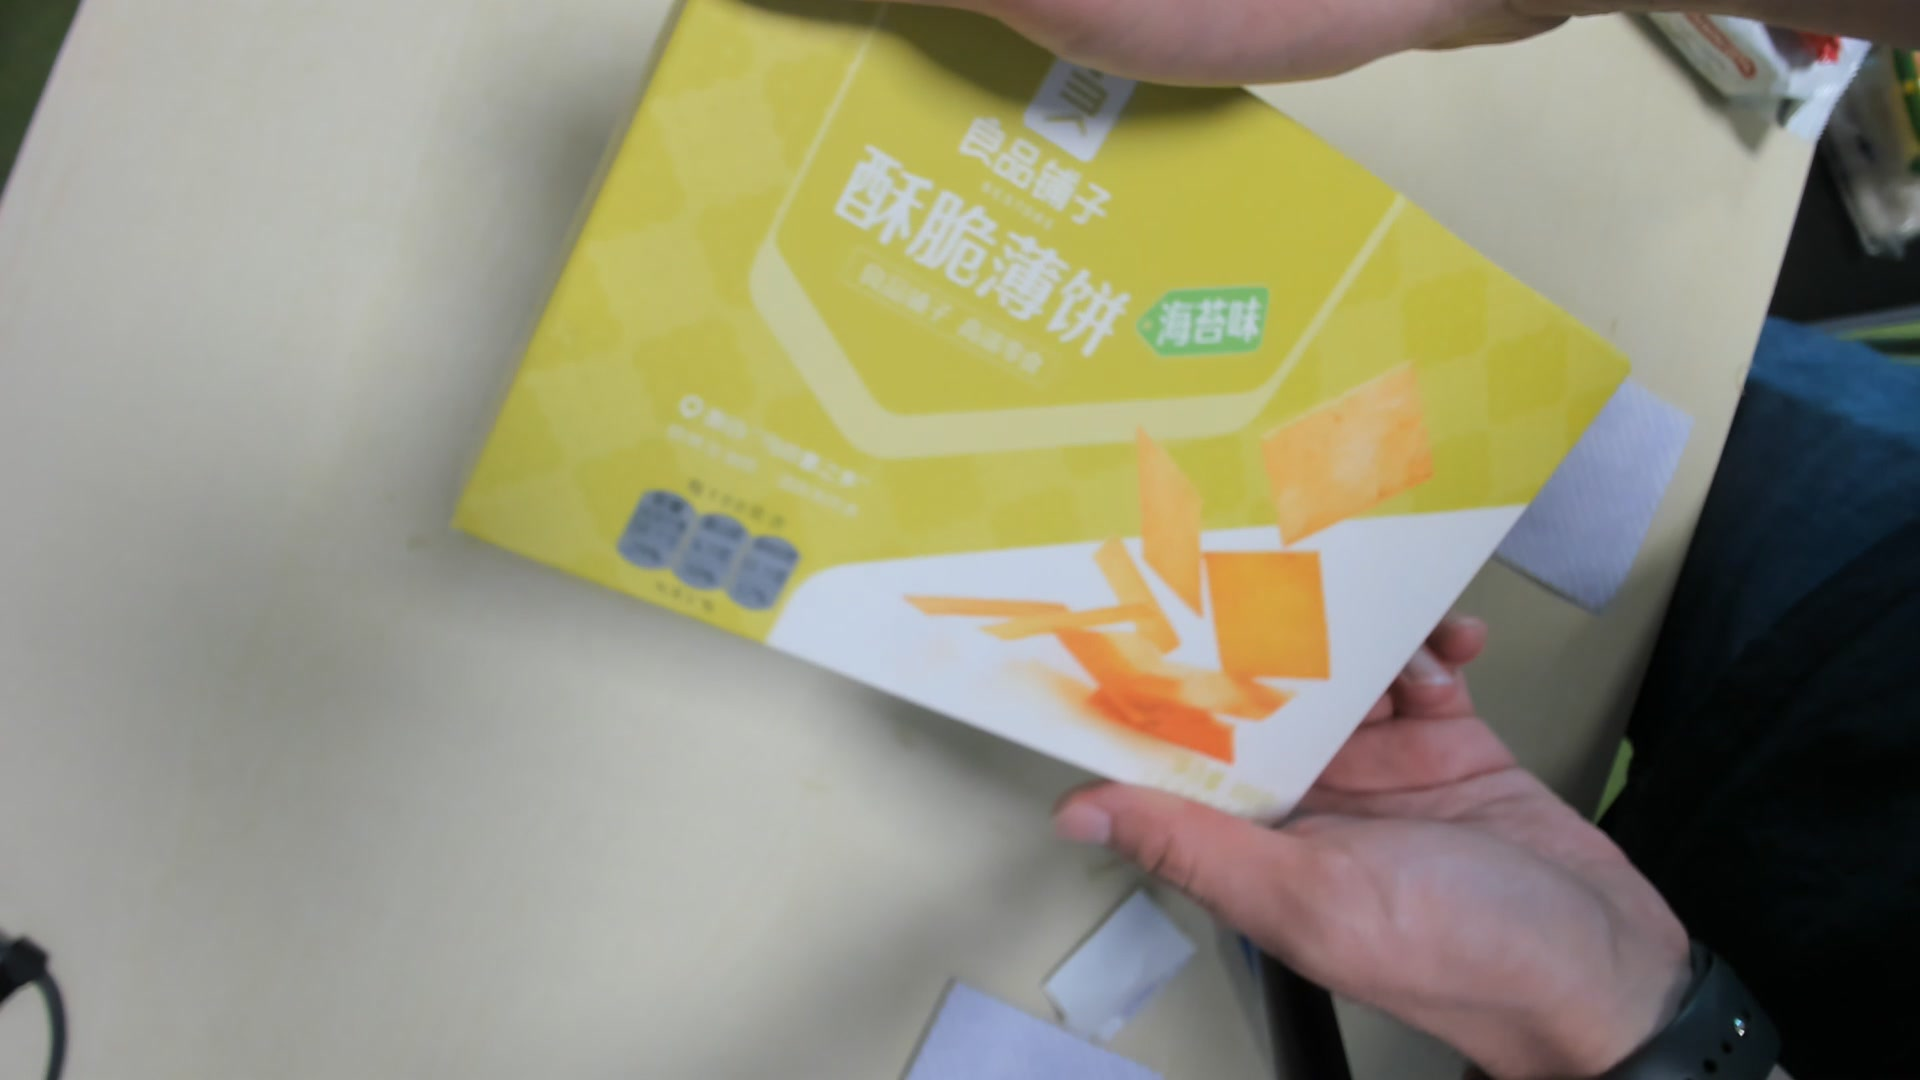BiscuitsCrackersCookies_300-399g_Halal_NonHealthy: (451, 9, 1635, 835)
